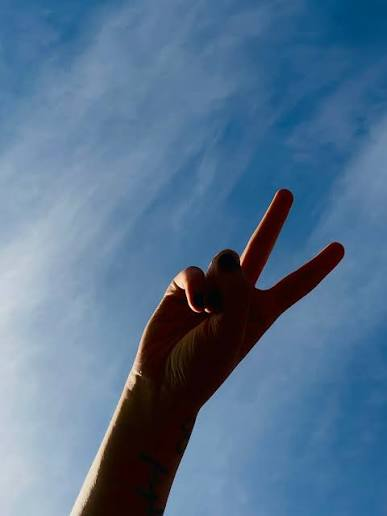peace_sign: (123, 182, 370, 387)
